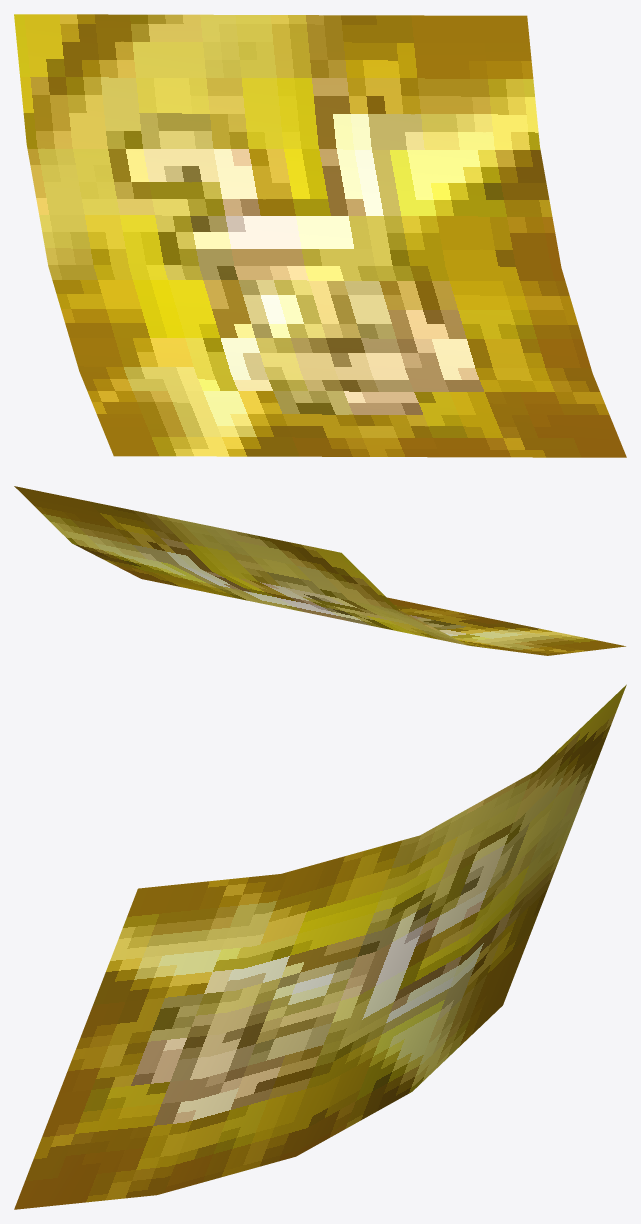
File: fg_easter_ticket.dae
The picture shows the model from 3 angles, top to bottom: view 1: azimuth 30°, elevation 25°; view 2: azimuth 150°, elevation 25°; view 3: azimuth 270°, elevation 25°; orthographic projection. The views are drawn at different scales.
Parts seen in each view (by area): view 1: fg_easter_ticket; view 2: fg_easter_ticket; view 3: fg_easter_ticket.
Part boxes in pixels (x1,y1,x2,y2): fg_easter_ticket: (14, 14, 626, 457); fg_easter_ticket: (14, 486, 625, 655); fg_easter_ticket: (14, 684, 626, 1209).
Bounding box in the file's own units: 19.29 × 10.14 × 16.15.
1 material, 1 textured.
